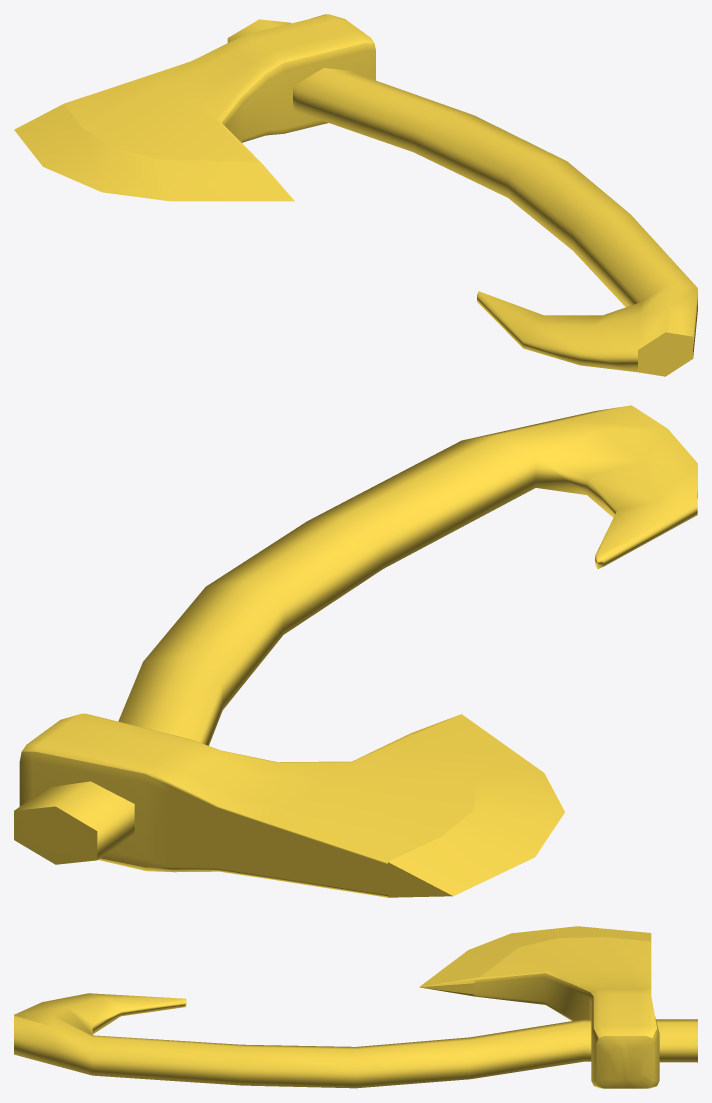
File: Axe_2.fbx
3 renders of one model, top to bottom at view 1: azimuth 30°, elevation 25°; view 2: azimuth 150°, elevation 25°; view 3: azimuth 270°, elevation 25°, orthographic. The views are drawn at different scales.
Visible parts, largest first — view 1: Axe_2; view 2: Axe_2; view 3: Axe_2.
Boxes of the visible parts, x1,y1,x2,y2 form: Axe_2: (14,14,697,376); Axe_2: (14,405,697,897); Axe_2: (14,926,697,1088).
Size of the model in its own units: 5.3 by 1 by 10.
